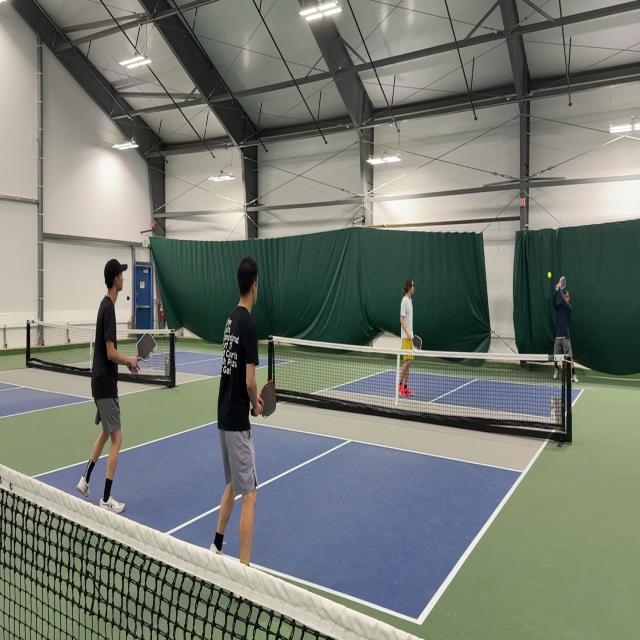ball: (547, 270, 552, 280)
